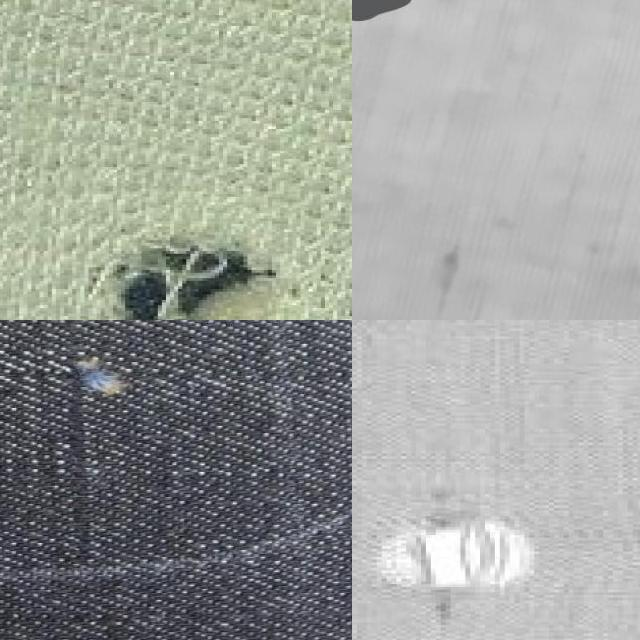Thread_other: (0, 320, 186, 491)
seam: (352, 473, 550, 640), (76, 208, 288, 320)
